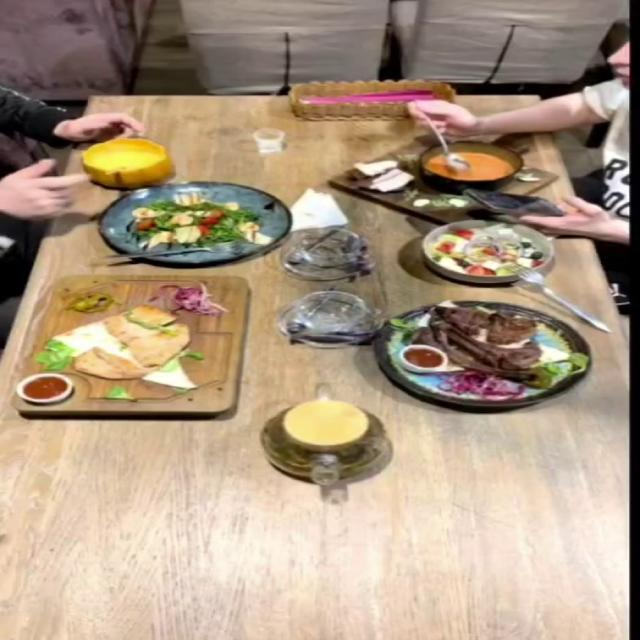meat: (19, 265, 253, 423), (371, 300, 591, 408)
salad: (96, 182, 290, 265), (420, 220, 556, 284)
soup: (326, 140, 561, 227), (80, 138, 174, 188)
tea: (257, 394, 392, 501)
